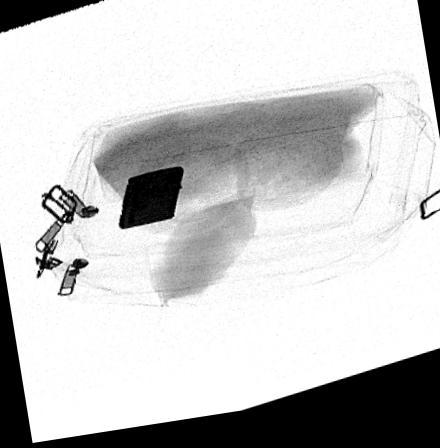Lighter: (116, 170, 186, 234)
